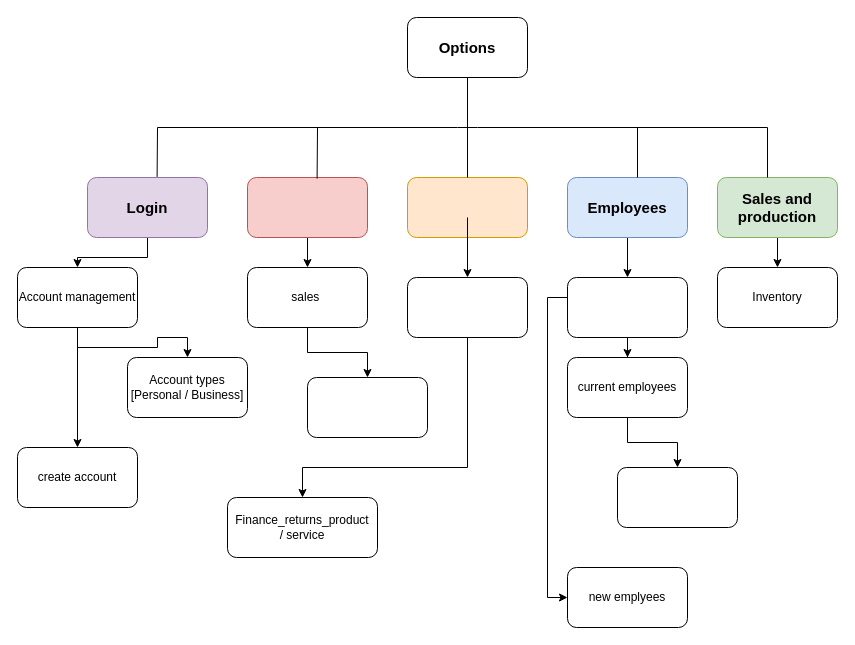
Some shapes in this 855 by 645 pixel diagram are drawn without their labels. Here are the shapes that lost their labels. From the top down, the centre of each, then its label:
At point (307, 207): "Clients".
At point (467, 207): "Finances".
At point (467, 307): "Product / service".
At point (627, 307): "Human resources".
At point (367, 407): "averages_client_sales".
At point (677, 497): "Employee satisfaction".
